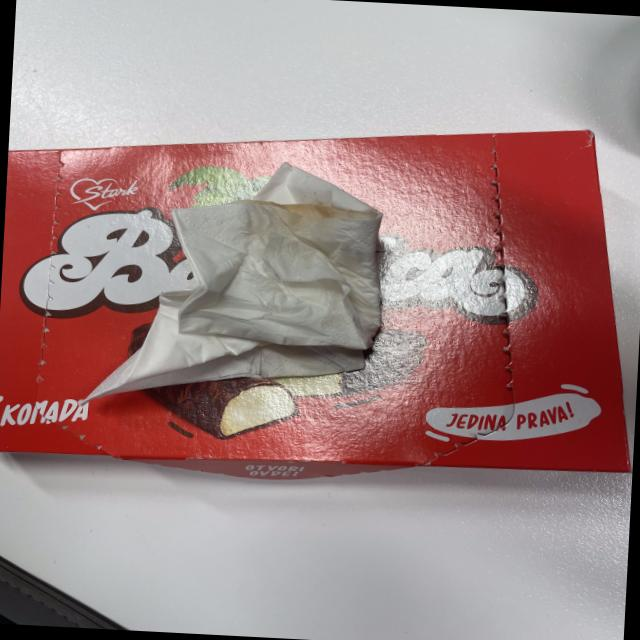organic waste: (69, 152, 391, 425)
